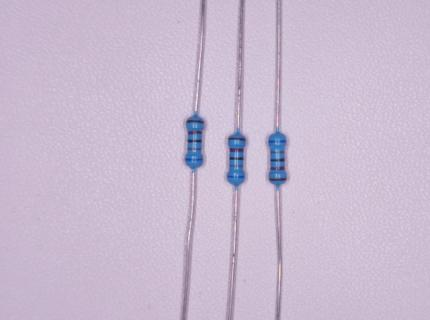Black band: (188, 140, 202, 143), (230, 157, 244, 160), (271, 158, 285, 161)
Blue band: (185, 158, 203, 161), (228, 175, 244, 178), (268, 140, 285, 142)
Brown band: (187, 120, 204, 124), (269, 178, 286, 181), (229, 138, 245, 141)
Grey band: (270, 151, 283, 154), (188, 148, 201, 150), (230, 165, 243, 167)
Red band: (188, 131, 202, 135), (230, 149, 244, 152), (271, 167, 285, 170)
